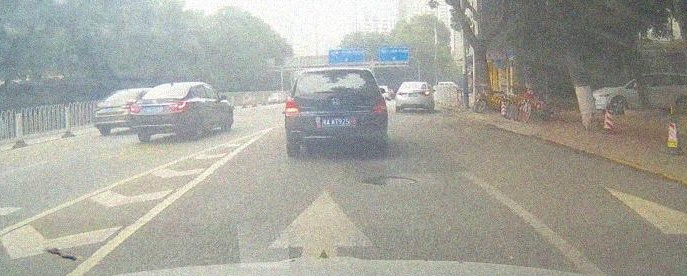L_light: (286, 98, 299, 116), (131, 104, 142, 113), (396, 91, 403, 95)
R_light: (373, 97, 387, 112), (170, 102, 188, 112), (422, 91, 430, 95)
T_light: (327, 71, 342, 75), (168, 85, 177, 88), (412, 83, 417, 85)
day-left: (285, 67, 389, 156)
day-no: (131, 82, 191, 141)
day-right: (395, 81, 430, 112)
